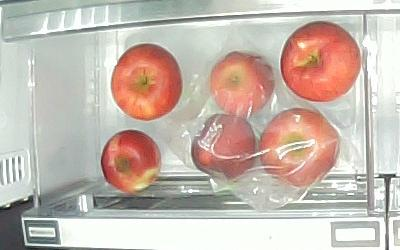apple: (280, 20, 362, 102), (111, 44, 183, 121), (101, 130, 162, 194)
apple_vinyl: (258, 108, 339, 187), (209, 51, 275, 116), (192, 114, 256, 178)
